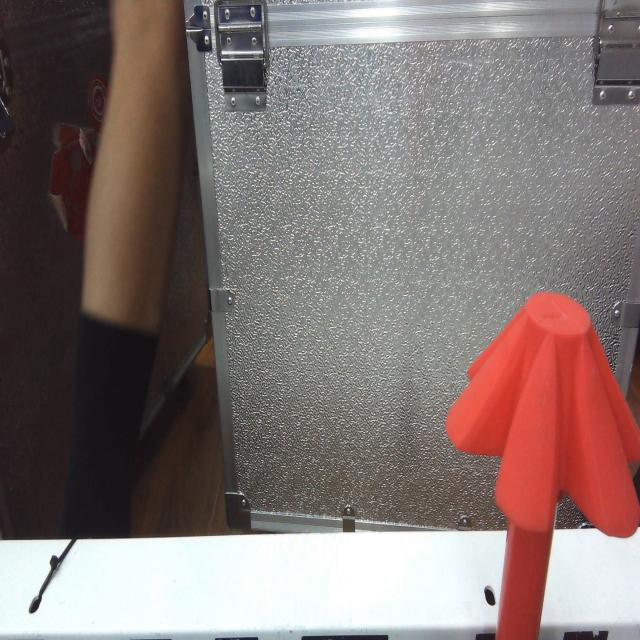zred-Stake-Head: (445, 289, 640, 538)
